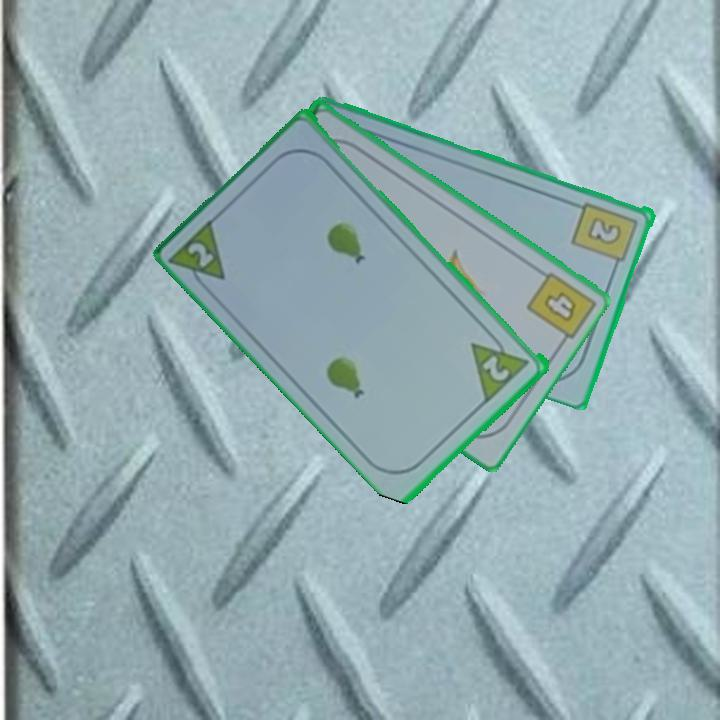2b: (569, 198, 641, 273)
2p: (167, 214, 230, 297), (479, 351, 513, 385)
4b: (540, 287, 580, 325)
